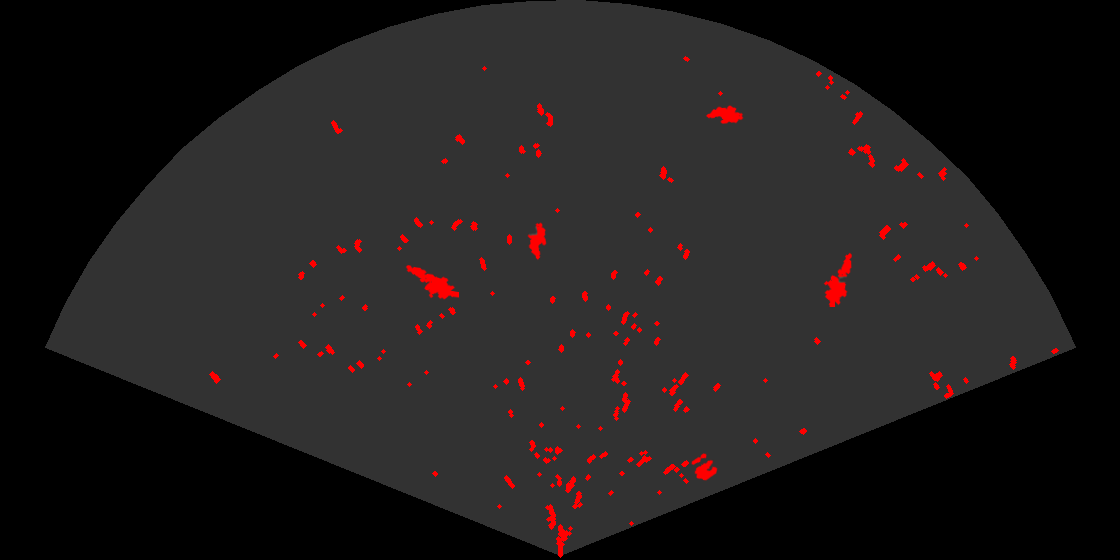AUV: (526, 221, 548, 262), (704, 104, 745, 125)
ball: (690, 452, 719, 482)
frogman: (404, 263, 459, 301), (822, 252, 853, 307)
